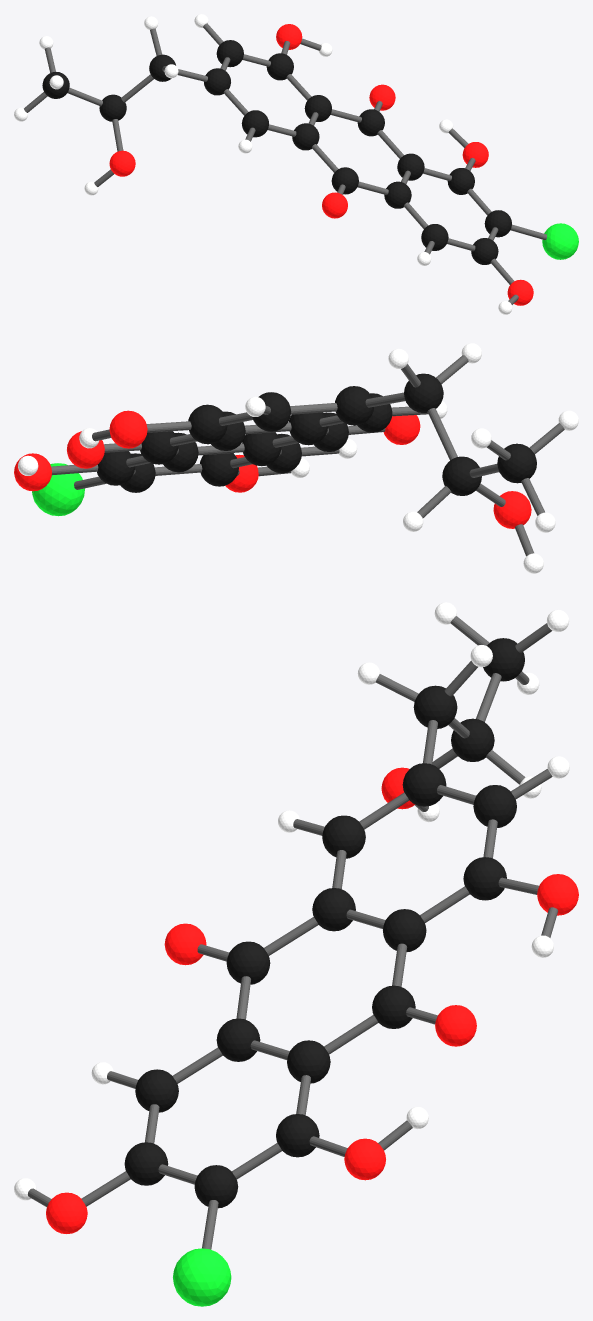
Rendered from molecule.glb.
3 renders of one model, top to bottom at view 1: azimuth 30°, elevation 25°; view 2: azimuth 150°, elevation 25°; view 3: azimuth 270°, elevation 25°, orthographic. The views are drawn at different scales.
Visible parts, largest first — view 1: geometry_18, geometry_9, geometry_22, geometry_6, geometry_1, geometry_13, geometry_4, geometry_15, geometry_19, geometry_2, geometry_21, geometry_10 (+12 smaller); view 2: geometry_18, geometry_4, geometry_6, geometry_1, geometry_7, geometry_0, geometry_3, geometry_2, geometry_13, geometry_15, geometry_19, geometry_5 (+31 smaller); view 3: geometry_18, geometry_6, geometry_15, geometry_4, geometry_21, geometry_11, geometry_14, geometry_22, geometry_9, geometry_13, geometry_5, geometry_10 (+11 smaller).
Part boxes in pixels (bbox=[...]): geometry_18: bbox=[542, 223, 578, 259]; geometry_9: bbox=[292, 123, 319, 150]; geometry_22: bbox=[357, 109, 384, 136]; geometry_6: bbox=[266, 53, 293, 80]; geometry_1: bbox=[99, 94, 126, 121]; geometry_13: bbox=[384, 181, 411, 208]; geometry_4: bbox=[204, 68, 230, 95]; geometry_15: bbox=[471, 238, 498, 264]; geometry_19: bbox=[447, 168, 474, 194]; geometry_2: bbox=[109, 150, 135, 176]; geometry_21: bbox=[397, 153, 424, 180]; geometry_10: bbox=[241, 110, 268, 137]; geometry_18: bbox=[32, 463, 84, 516]; geometry_4: bbox=[335, 386, 373, 425]; geometry_6: bbox=[188, 404, 227, 444]; geometry_1: bbox=[442, 456, 481, 495]; geometry_7: bbox=[109, 410, 147, 448]; geometry_0: bbox=[497, 443, 536, 483]; geometry_3: bbox=[404, 373, 443, 412]; geometry_2: bbox=[493, 491, 531, 528]; geometry_13: bbox=[242, 432, 281, 466]; geometry_15: bbox=[200, 453, 238, 486]; geometry_19: bbox=[97, 451, 135, 485]; geometry_5: bbox=[252, 392, 291, 431]; geometry_18: bbox=[173, 1248, 231, 1306]; geometry_6: bbox=[463, 857, 506, 900]; geometry_15: bbox=[124, 1142, 168, 1185]; geometry_4: bbox=[402, 763, 446, 806]; geometry_21: bbox=[287, 1040, 330, 1083]; geometry_11: bbox=[226, 941, 270, 984]; geometry_14: bbox=[135, 1069, 178, 1112]; geometry_22: bbox=[372, 985, 415, 1028]; geometry_9: bbox=[312, 888, 355, 931]; geometry_13: bbox=[216, 1018, 260, 1061]; geometry_5: bbox=[473, 785, 516, 827]; geometry_10: bbox=[322, 815, 365, 858].
Size of the model in its own units: 0.2626 by 0.1397 by 0.1754.
